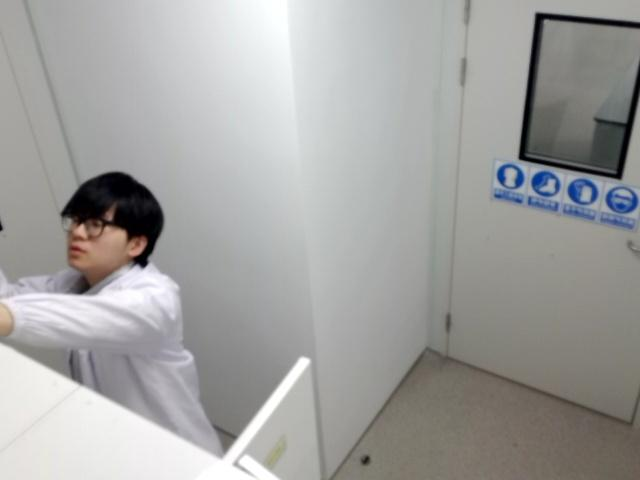Lab_coat: (0, 172, 222, 454)
